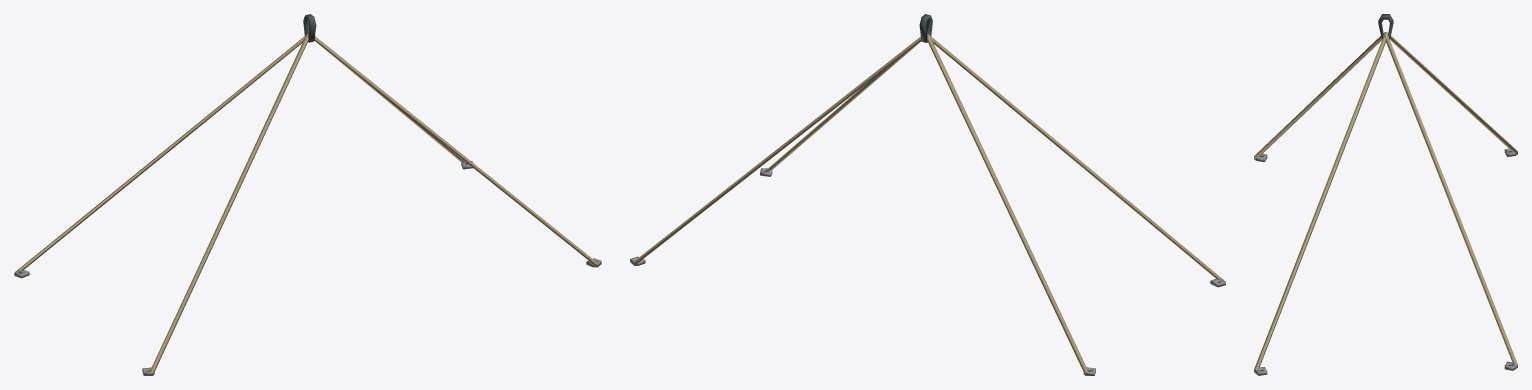
The model's file is RopeToBoat.fbx.
The picture shows the model from 3 angles, left to right: view 1: azimuth 30°, elevation 25°; view 2: azimuth 150°, elevation 25°; view 3: azimuth 270°, elevation 25°; orthographic projection. The views are drawn at different scales.
Parts seen in each view (by area): view 1: Cylinder.292; view 2: Cylinder.292; view 3: Cylinder.292.
Part boxes in pixels (x1,y1,x2,y2): Cylinder.292: [14, 14, 601, 375]; Cylinder.292: [630, 14, 1225, 375]; Cylinder.292: [1254, 14, 1517, 375].
Bounding box in the file's own units: 165 × 87.98 × 83.54.
